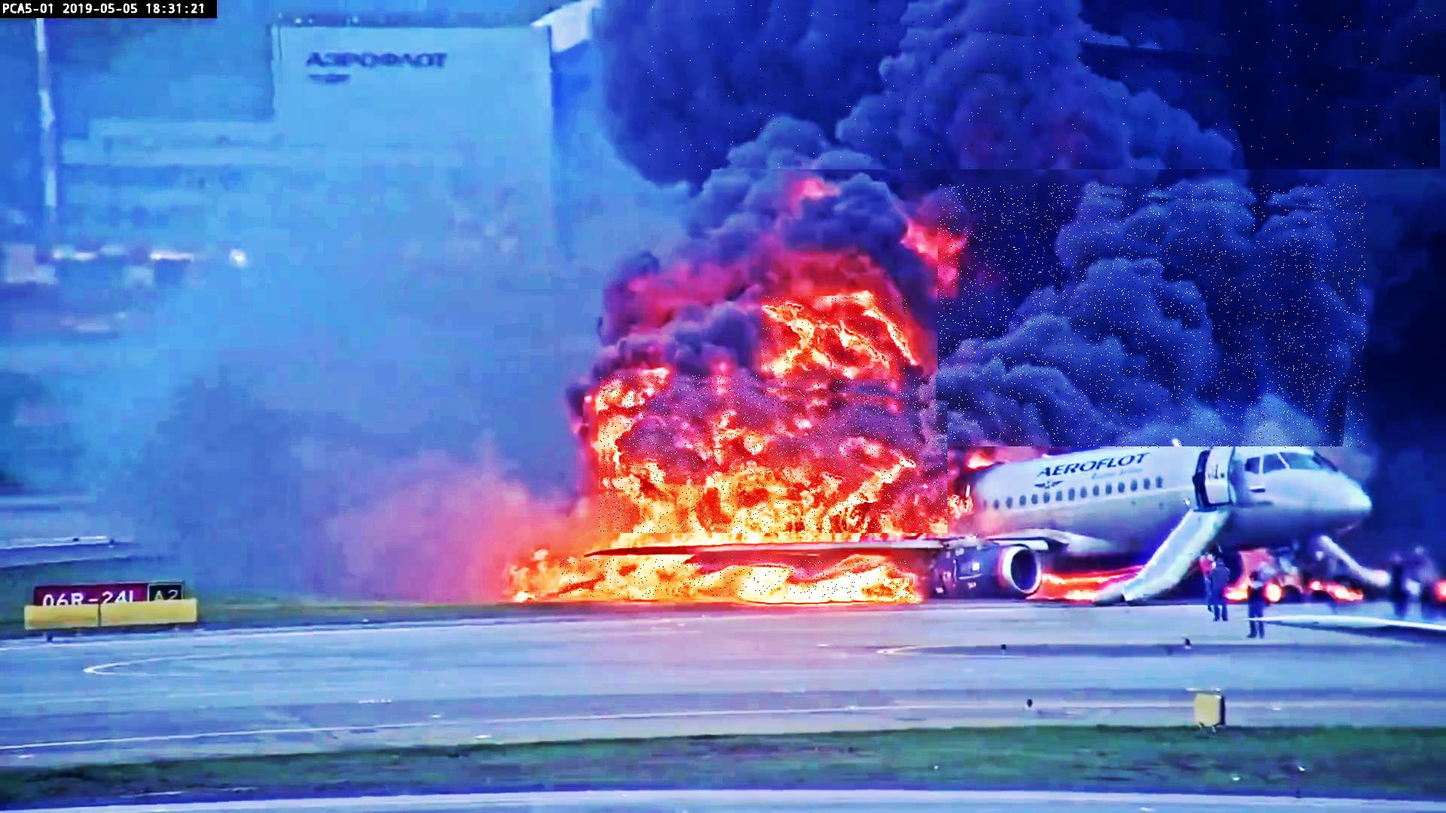fire: (599, 375, 949, 533), (560, 559, 912, 598), (762, 296, 907, 381)
smoke: (648, 0, 1440, 169), (938, 184, 1365, 448)
